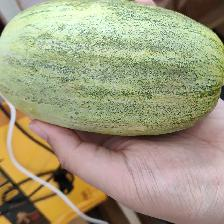gua: (23, 11, 200, 121)
